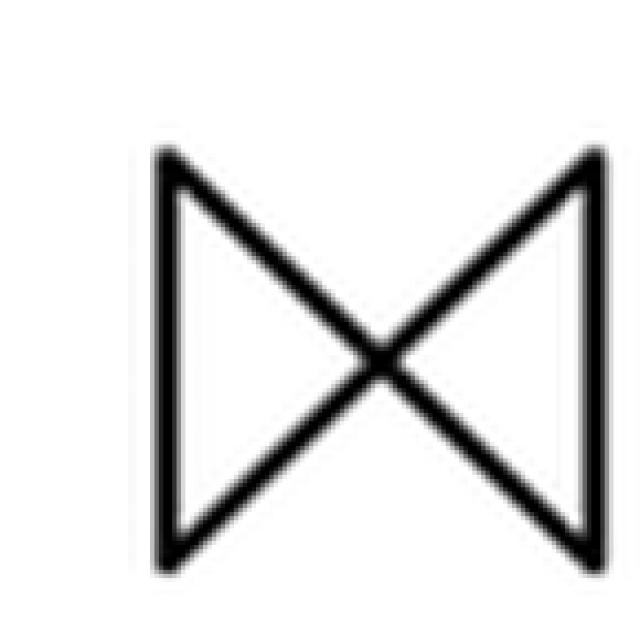Gate valve: (154, 149, 596, 570)
